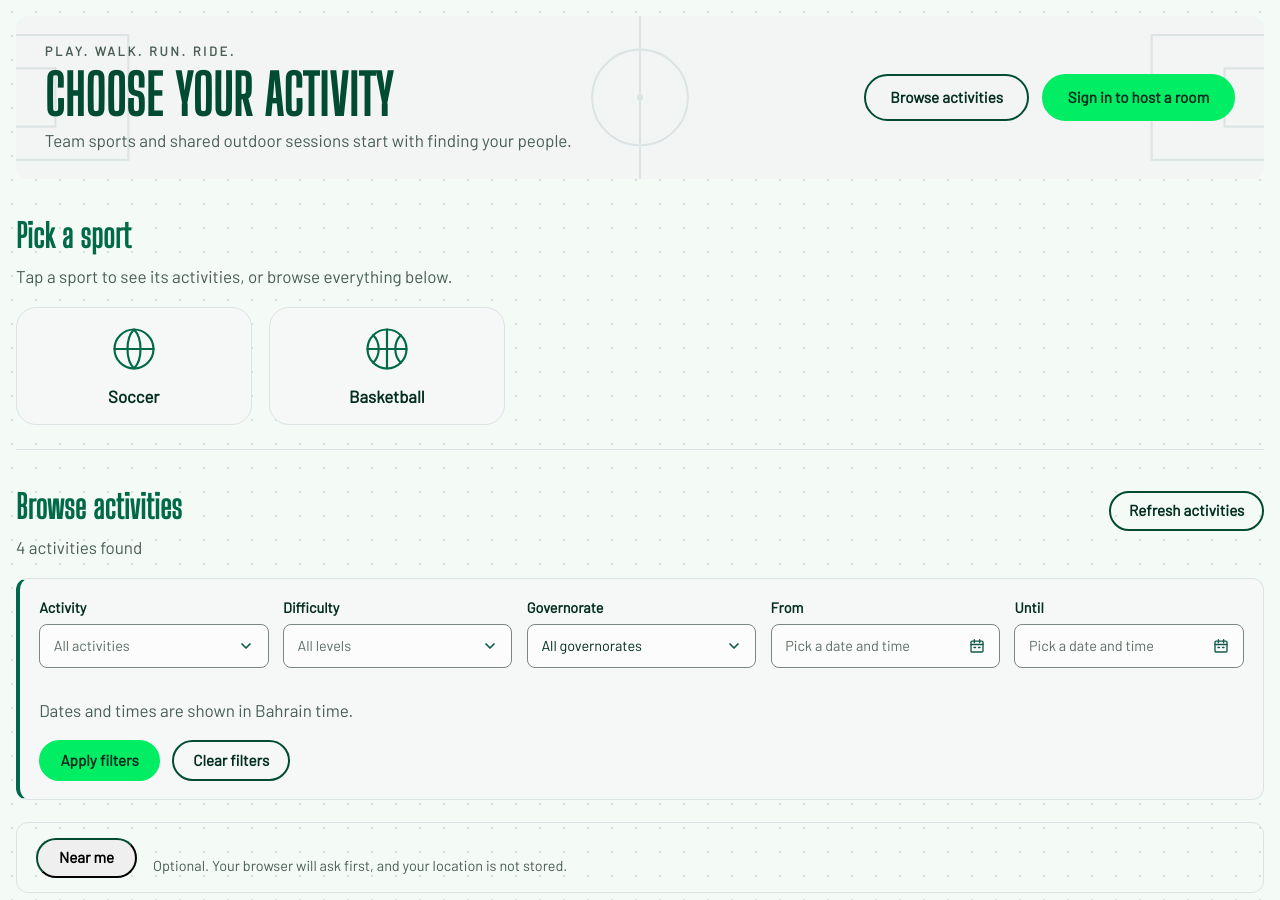
Test: Sports filters and discovery › navigates from the sport picker to its activities and scrolls only when selection changes
Click the link "Soccer" at (134, 366), box [16, 307, 252, 425]
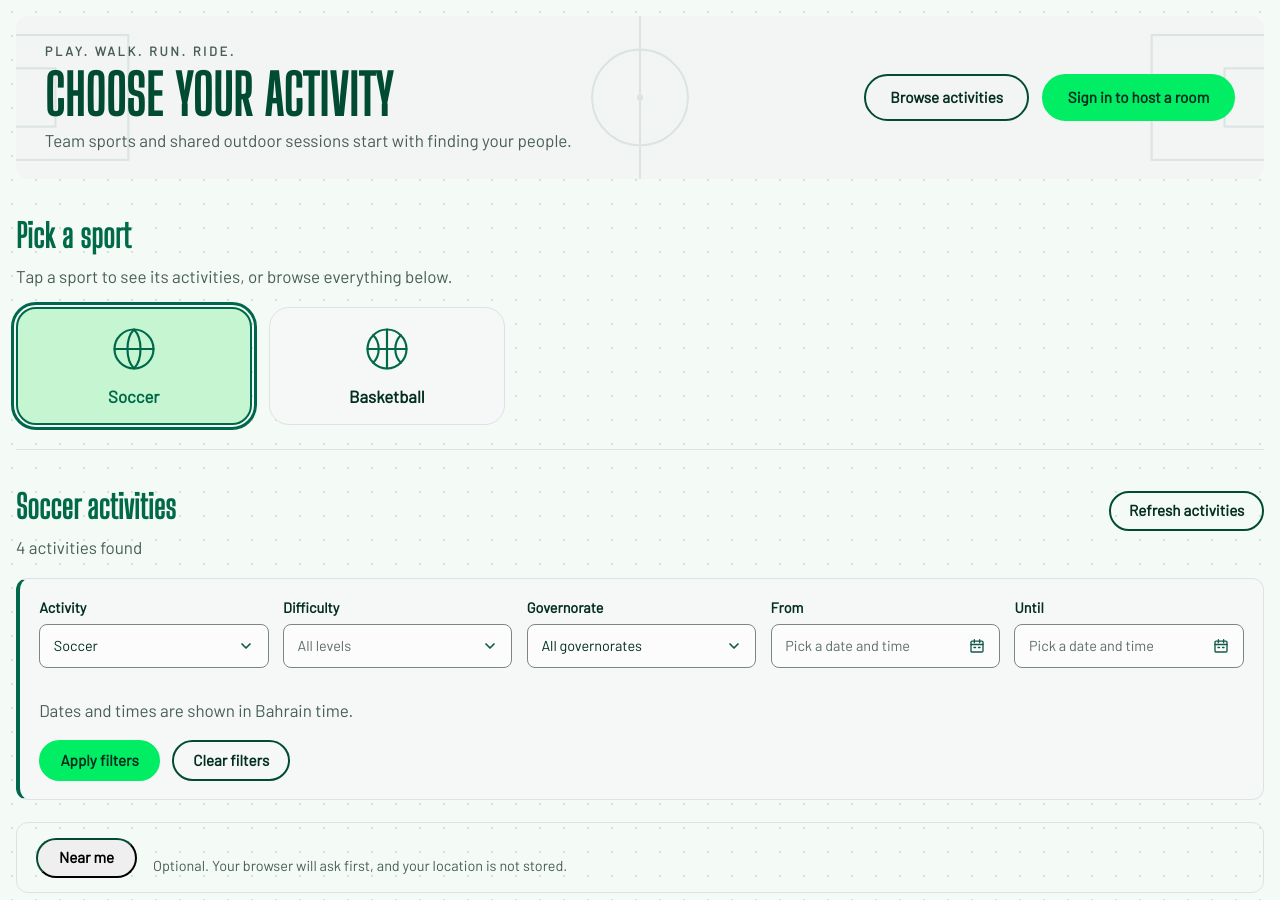
Expected: the heading "Soccer activities" is shown, [16, 482, 176, 532]
Click the button "Refresh activities" at (1187, 511), box [1109, 491, 1264, 531]
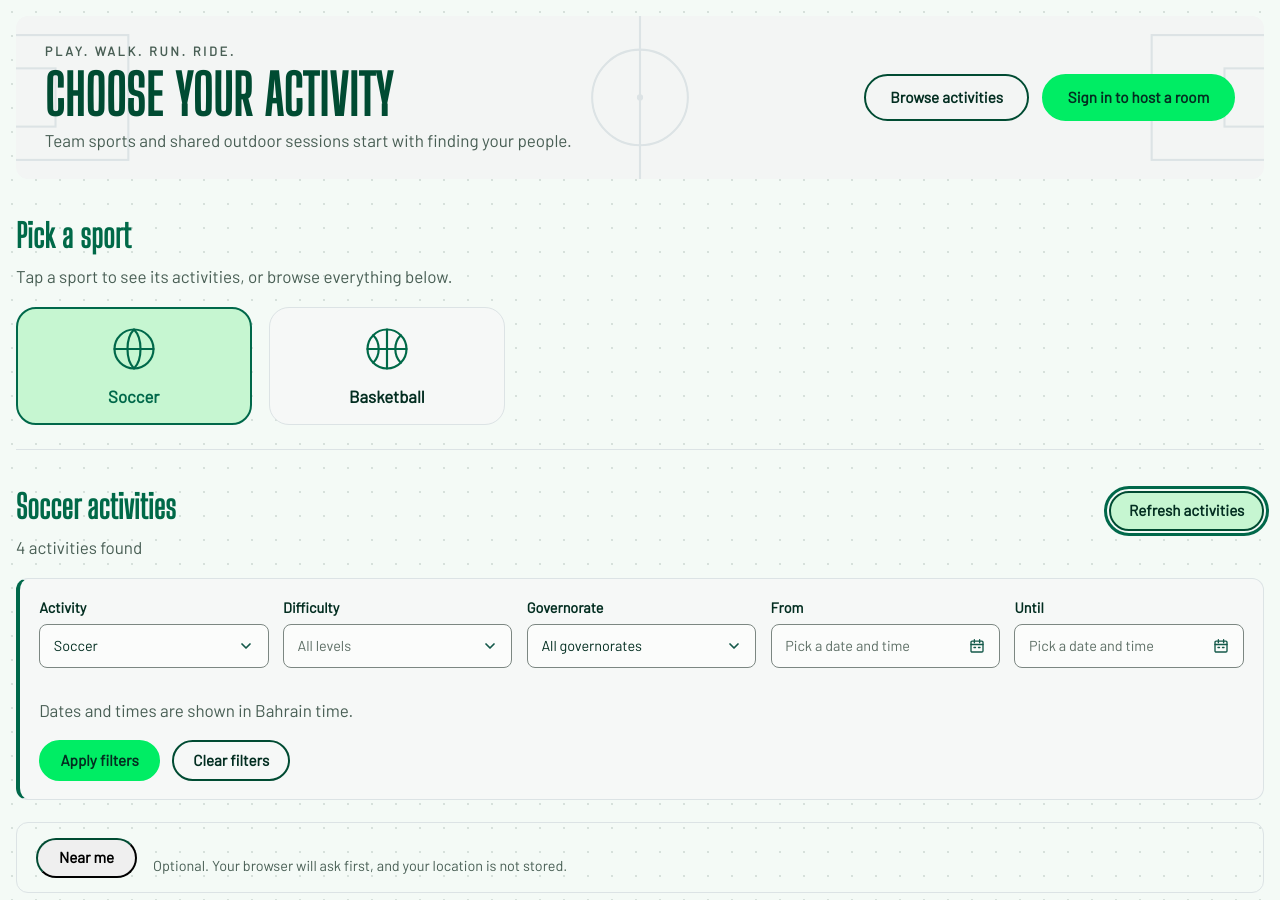
Click the button "Clear filters" at (231, 761), box [172, 740, 290, 781]
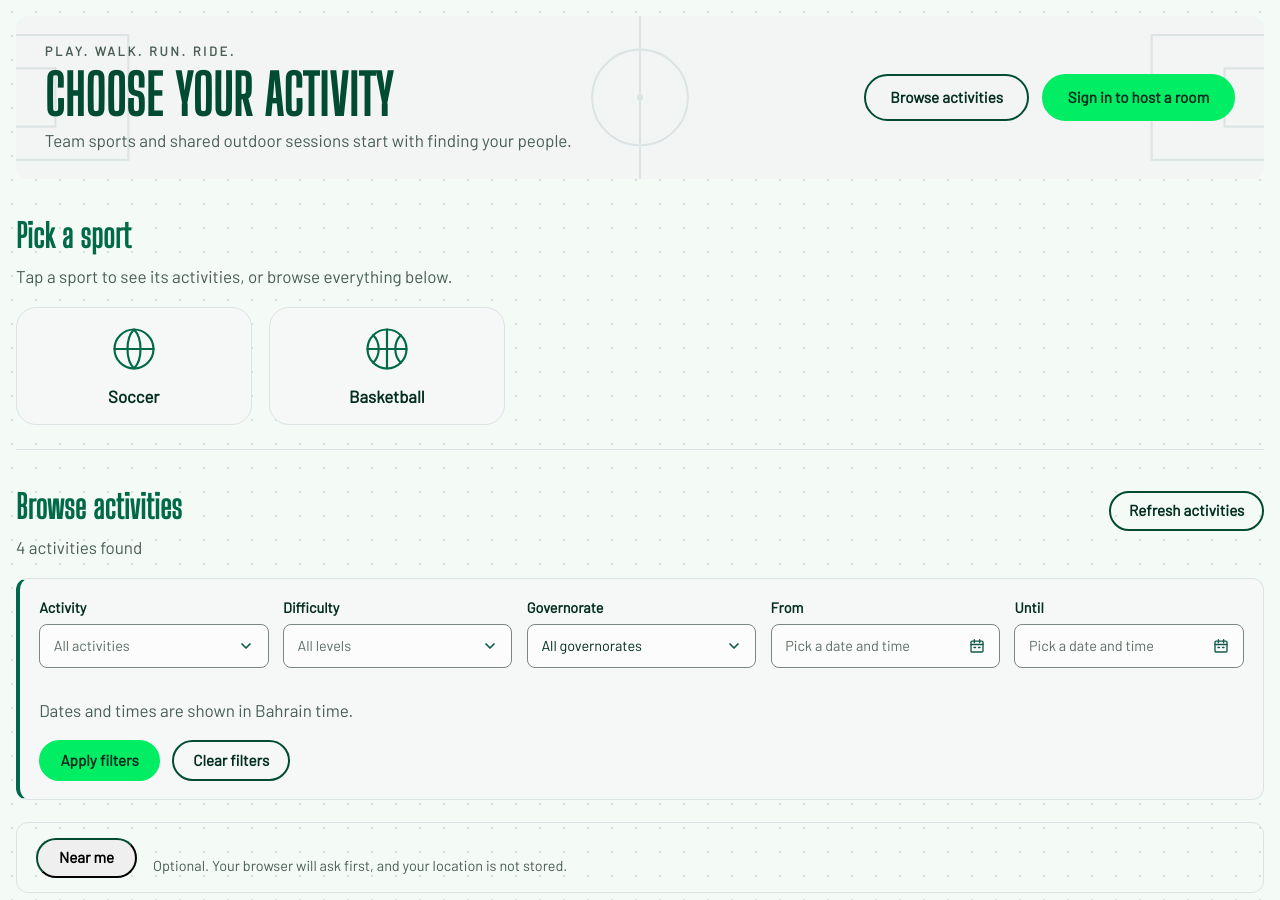
Expected: the heading "Browse activities" is shown, [16, 482, 182, 532]
